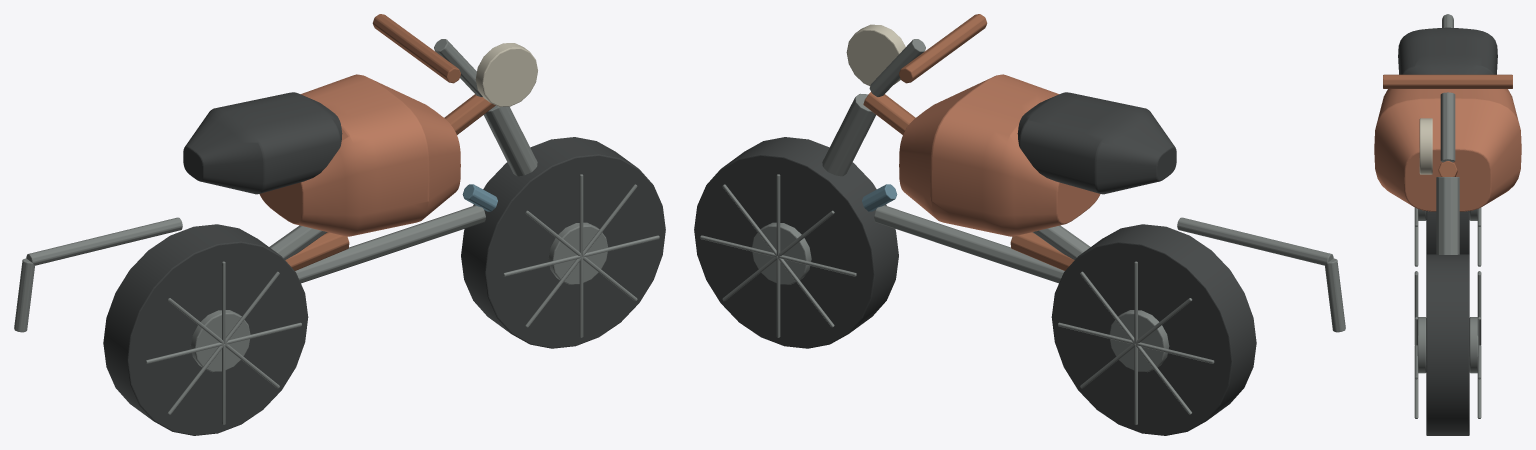
File: Apoc_Motorcycle_01_Rusted_Scrambler.fbx
The picture shows the model from 3 angles, left to right: view 1: azimuth 30°, elevation 25°; view 2: azimuth 150°, elevation 25°; view 3: azimuth 270°, elevation 25°; orthographic projection. The views are drawn at different scales.
Parts seen in each view (by area): view 1: Apoc_Motorcycle_01_Rusted_Scrambler; view 2: Apoc_Motorcycle_01_Rusted_Scrambler; view 3: Apoc_Motorcycle_01_Rusted_Scrambler.
Boxes of the visible parts, left/top/right/bottom form: Apoc_Motorcycle_01_Rusted_Scrambler: left=14, top=14, right=665, bottom=435; Apoc_Motorcycle_01_Rusted_Scrambler: left=694, top=14, right=1345, bottom=435; Apoc_Motorcycle_01_Rusted_Scrambler: left=1374, top=14, right=1521, bottom=435.
Bounding box in the file's own units: 2.97 × 1.47 × 0.6791.
